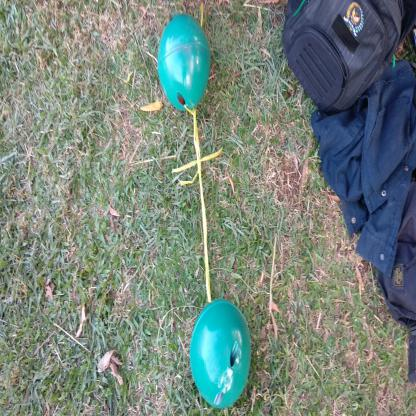green_buoy: (186, 294, 255, 412), (156, 7, 213, 116)
